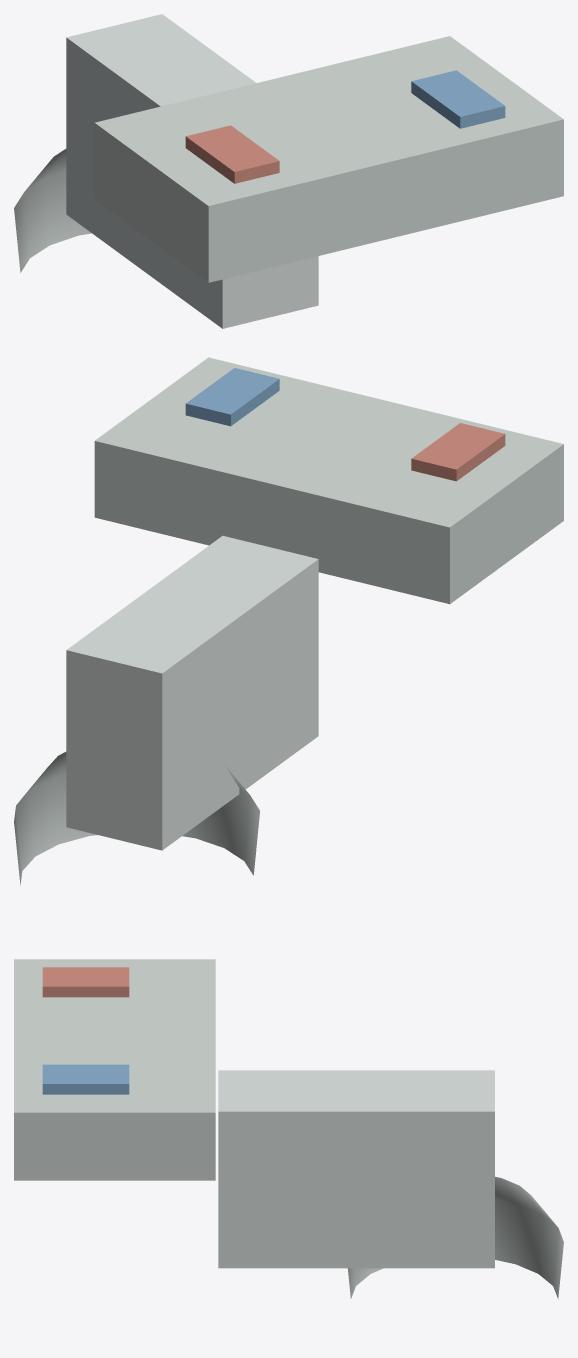
The model's file is mixer_lever.glb.
3 views of the same model, one above another, from view 1: azimuth 30°, elevation 25°; view 2: azimuth 150°, elevation 25°; view 3: azimuth 270°, elevation 25° (orthographic). The views are drawn at different scales.
Parts seen in each view (by area): view 1: Handle_Grip_Top, Handle_Lever_Stem, Handle_Pivot_Cap, Handle_Grip_Accent_Blue, Handle_Grip_Accent_Red; view 2: Handle_Grip_Top, Handle_Lever_Stem, Handle_Pivot_Cap, Handle_Grip_Accent_Red, Handle_Grip_Accent_Blue; view 3: Handle_Lever_Stem, Handle_Grip_Top, Handle_Pivot_Cap, Handle_Grip_Accent_Red, Handle_Grip_Accent_Blue.
Boxes of the visible parts, left/top/right/bottom form: Handle_Grip_Top: left=94, top=36, right=563, bottom=282; Handle_Lever_Stem: left=66, top=14, right=318, bottom=328; Handle_Pivot_Cap: left=14, top=149, right=91, bottom=272; Handle_Grip_Accent_Blue: left=411, top=70, right=505, bottom=128; Handle_Grip_Accent_Red: left=185, top=125, right=279, bottom=183; Handle_Grip_Top: left=94, top=357, right=563, bottom=604; Handle_Lever_Stem: left=66, top=536, right=318, bottom=850; Handle_Pivot_Cap: left=14, top=752, right=259, bottom=885; Handle_Grip_Accent_Red: left=411, top=423, right=505, bottom=481; Handle_Grip_Accent_Blue: left=185, top=368, right=279, bottom=426; Handle_Lever_Stem: left=218, top=1070, right=494, bottom=1268; Handle_Grip_Top: left=14, top=959, right=215, bottom=1180; Handle_Pivot_Cap: left=347, top=1176, right=563, bottom=1299; Handle_Grip_Accent_Red: left=42, top=967, right=129, bottom=997; Handle_Grip_Accent_Blue: left=42, top=1064, right=129, bottom=1094.
Size of the model in its own units: 0.063 by 0.0525 by 0.0955.
